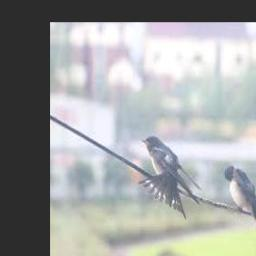Swallow: (138, 135, 201, 220), (224, 165, 256, 235)
